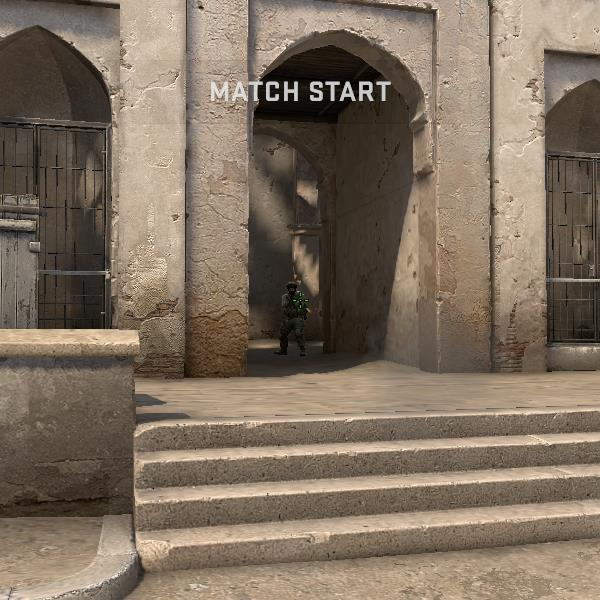ct_body: (270, 279, 314, 357)
ct_head: (283, 281, 299, 297)
